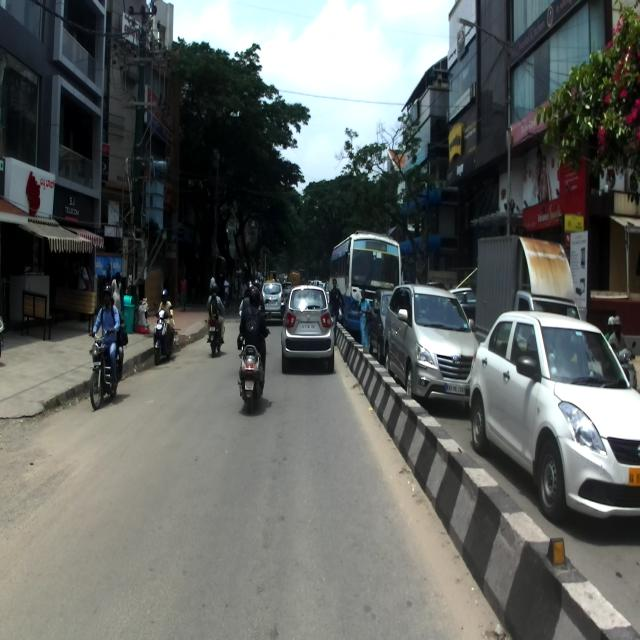car ahead at: (469, 308, 640, 522), (282, 283, 336, 367)
motorcycle ahead at: (238, 338, 271, 403)
